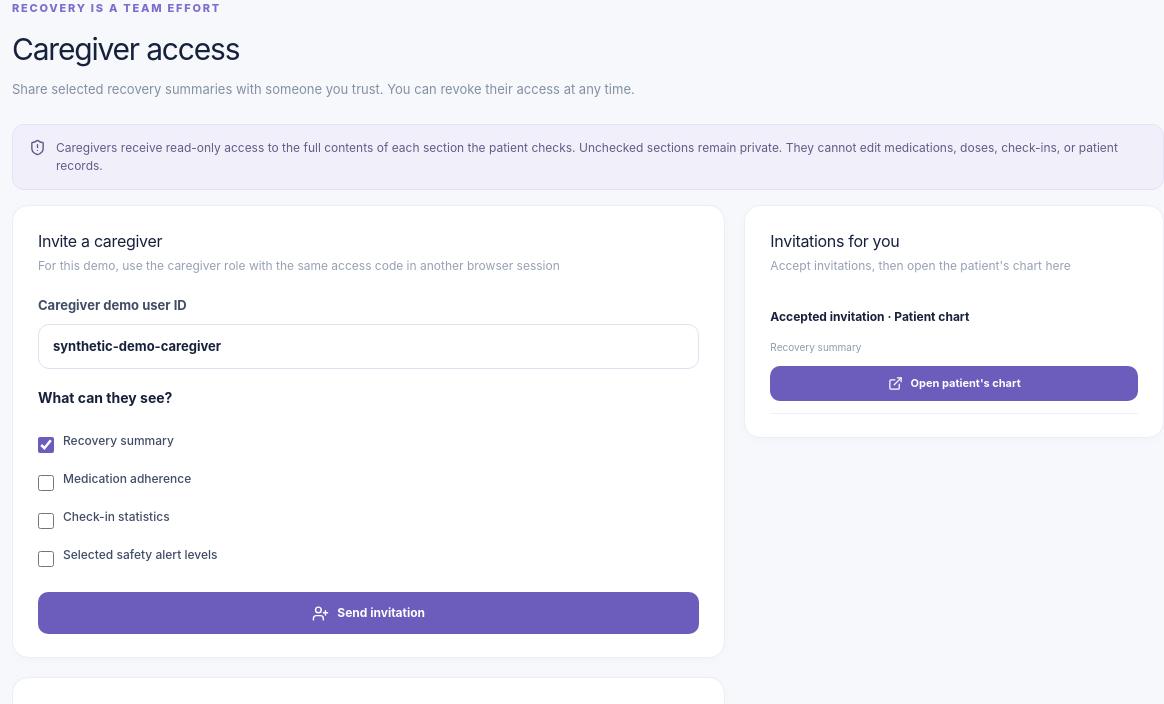
it: caregiver summary access › clears previously viewed data when access returns 403
This screenshot has width=1164, height=704.
Click the button "Open patient's chart" at (954, 383), box [770,366,1138,401]
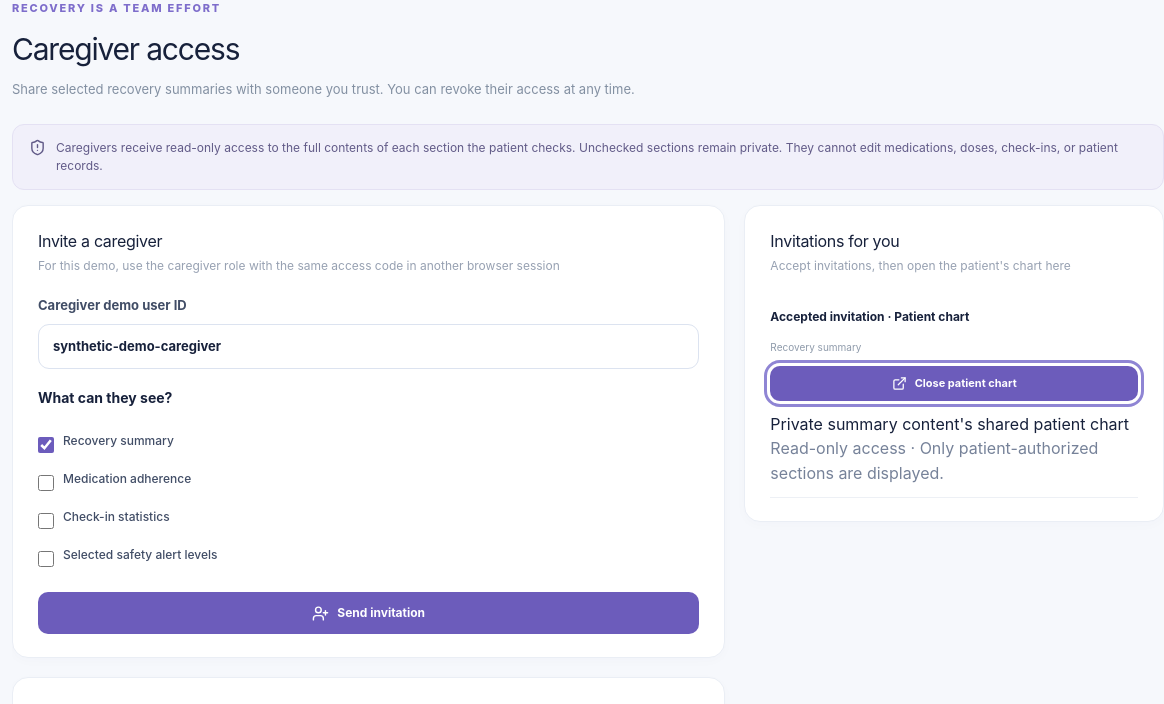
Expected: the heading "Private summary content's shared patient chart" is shown, [770,412,1138,436]
Click the button "Close patient chart" at (954, 383), box [770,366,1138,401]
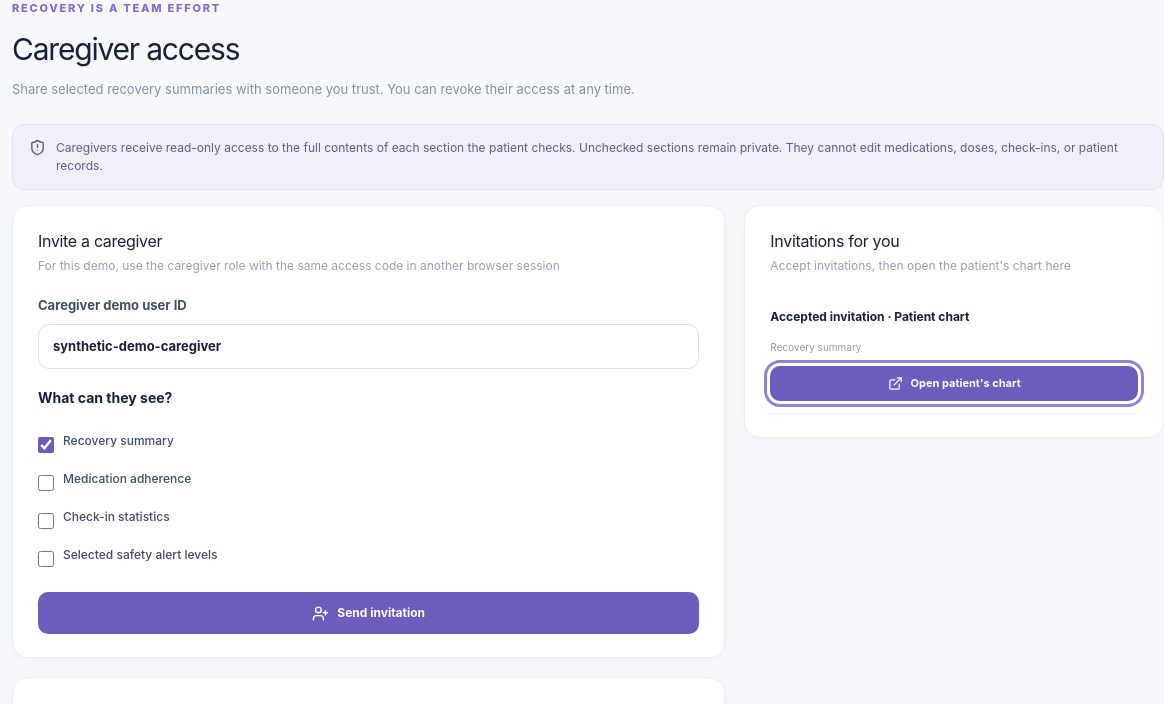
Click the button "Open patient's chart" at (954, 383), box [770,366,1138,401]
(page scrolled)
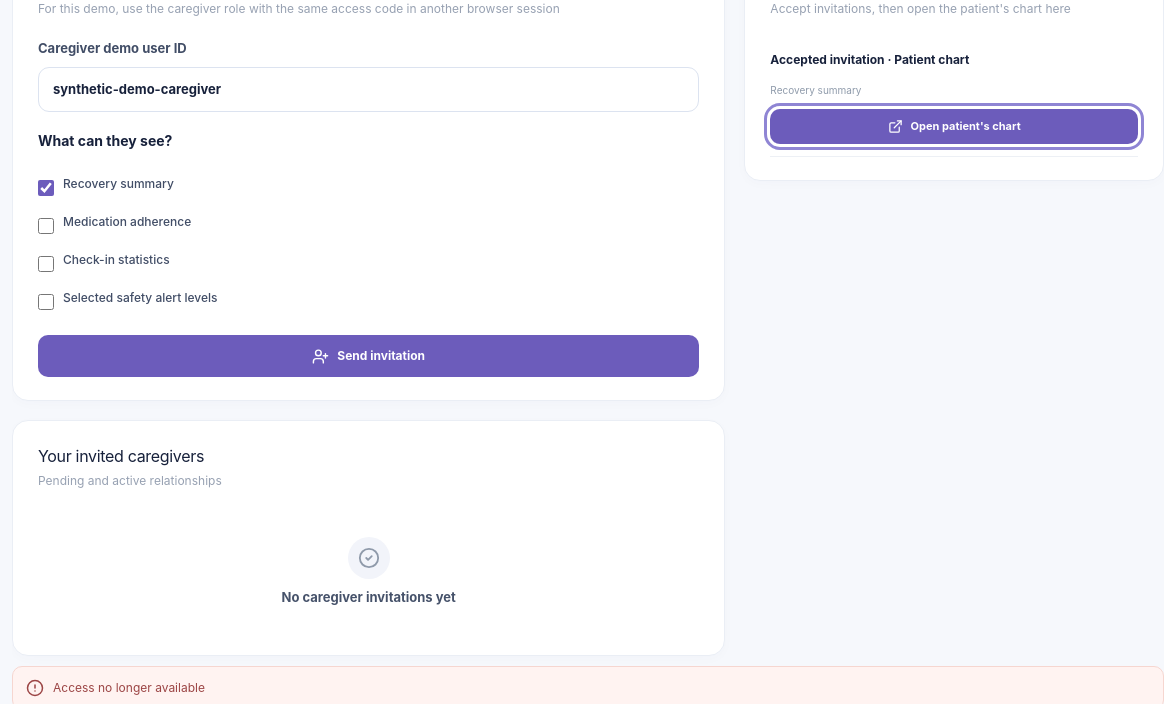
Expected: the heading "Private summary content's shared patient chart" is not shown
Expected: the text "Access no longer available" is shown, [53,679,205,697]
